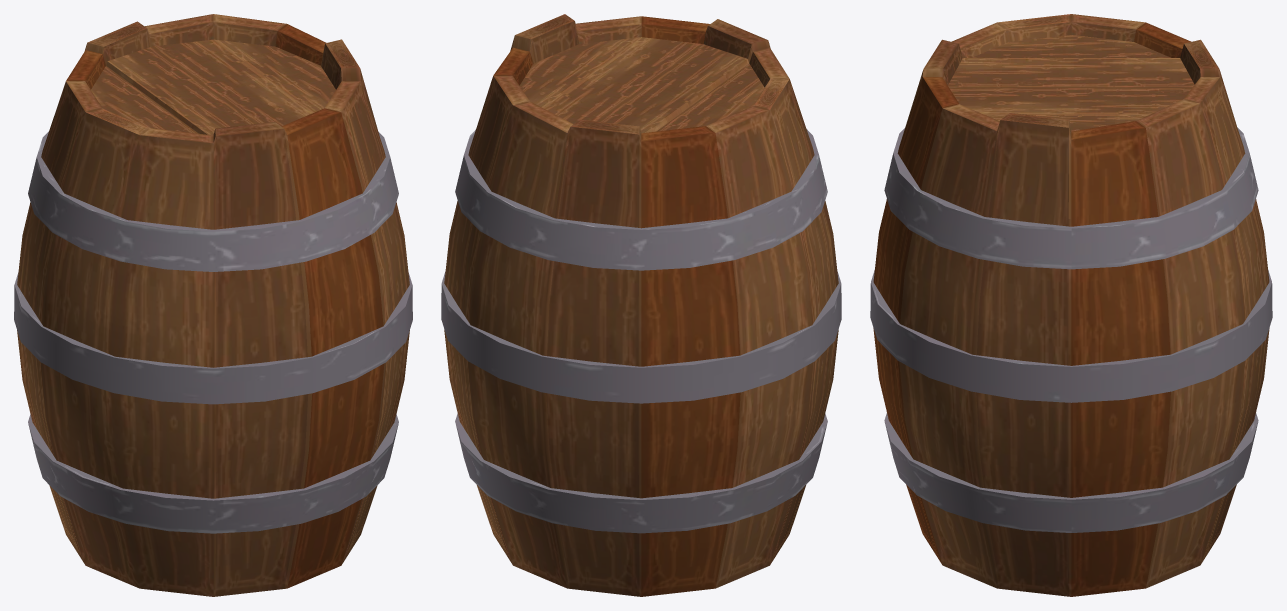
The model's file is Barrel.glb.
The picture shows the model from 3 angles, left to right: view 1: azimuth 30°, elevation 25°; view 2: azimuth 150°, elevation 25°; view 3: azimuth 270°, elevation 25°; orthographic projection.
Parts seen in each view (by area): view 1: Barrel; view 2: Barrel; view 3: Barrel.
Part boxes in pixels (left/top/right/bottom): Barrel: left=14, top=14, right=412, bottom=596; Barrel: left=441, top=14, right=841, bottom=596; Barrel: left=870, top=14, right=1272, bottom=596.
Size of the model in its own units: 0.698 by 0.898 by 0.698.
Materials: 2 (2 with a texture image).
